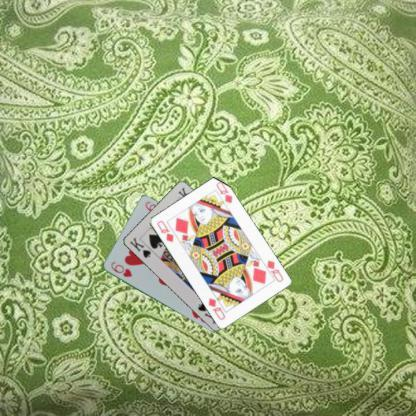6h: (108, 260, 134, 278)
Ks: (126, 235, 152, 260)
Qd: (260, 258, 284, 284), (154, 218, 174, 243)
